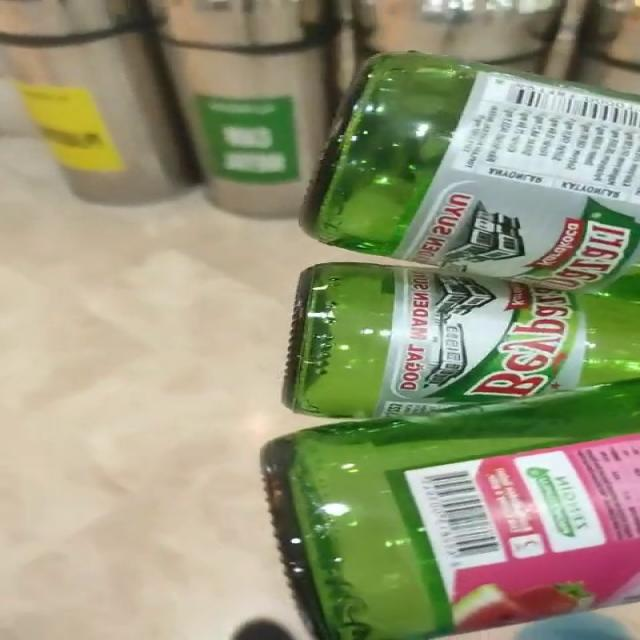glass: (261, 52, 639, 640)
